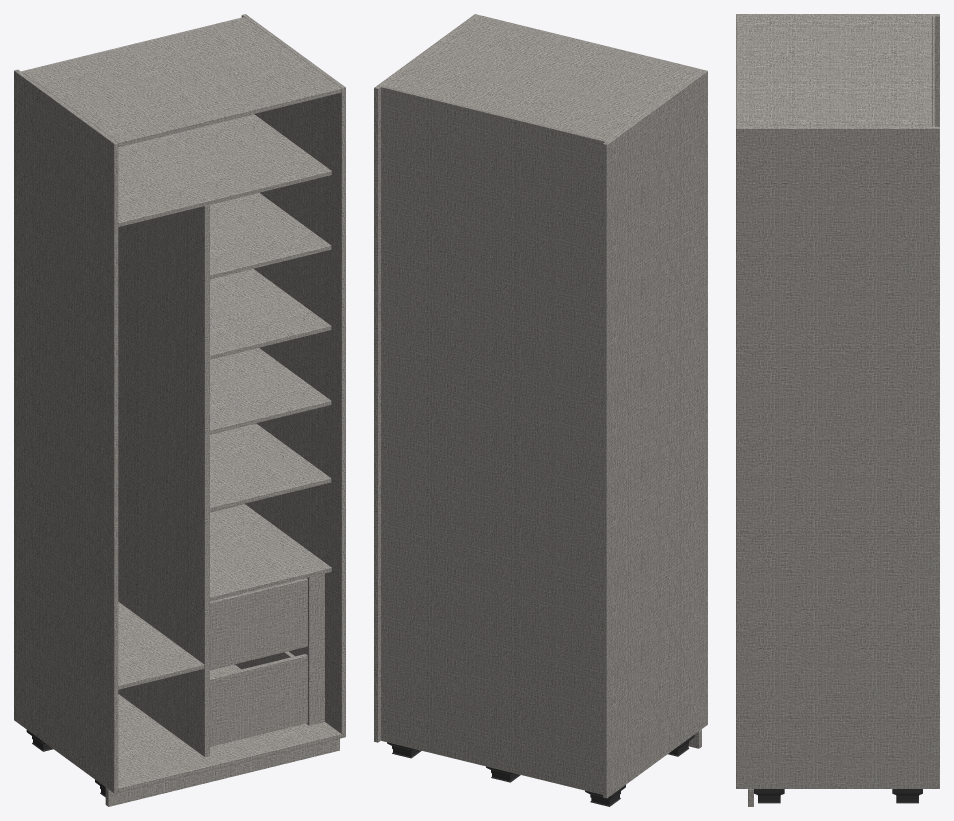
File: cbib12164.gltf
3 renders of one model, left to right at view 1: azimuth 30°, elevation 25°; view 2: azimuth 150°, elevation 25°; view 3: azimuth 270°, elevation 25°, orthographic.
Visible parts, largest first — view 1: CBIB12164; view 2: CBIB12164; view 3: CBIB12164.
Part boxes in pixels (x1,y1,x2,y2): CBIB12164: (14,14,345,806); CBIB12164: (374,14,707,806); CBIB12164: (736,14,939,806).
Bounding box in the file's own units: 0.8 × 2.2 × 0.6.
3 materials, 2 textured.
